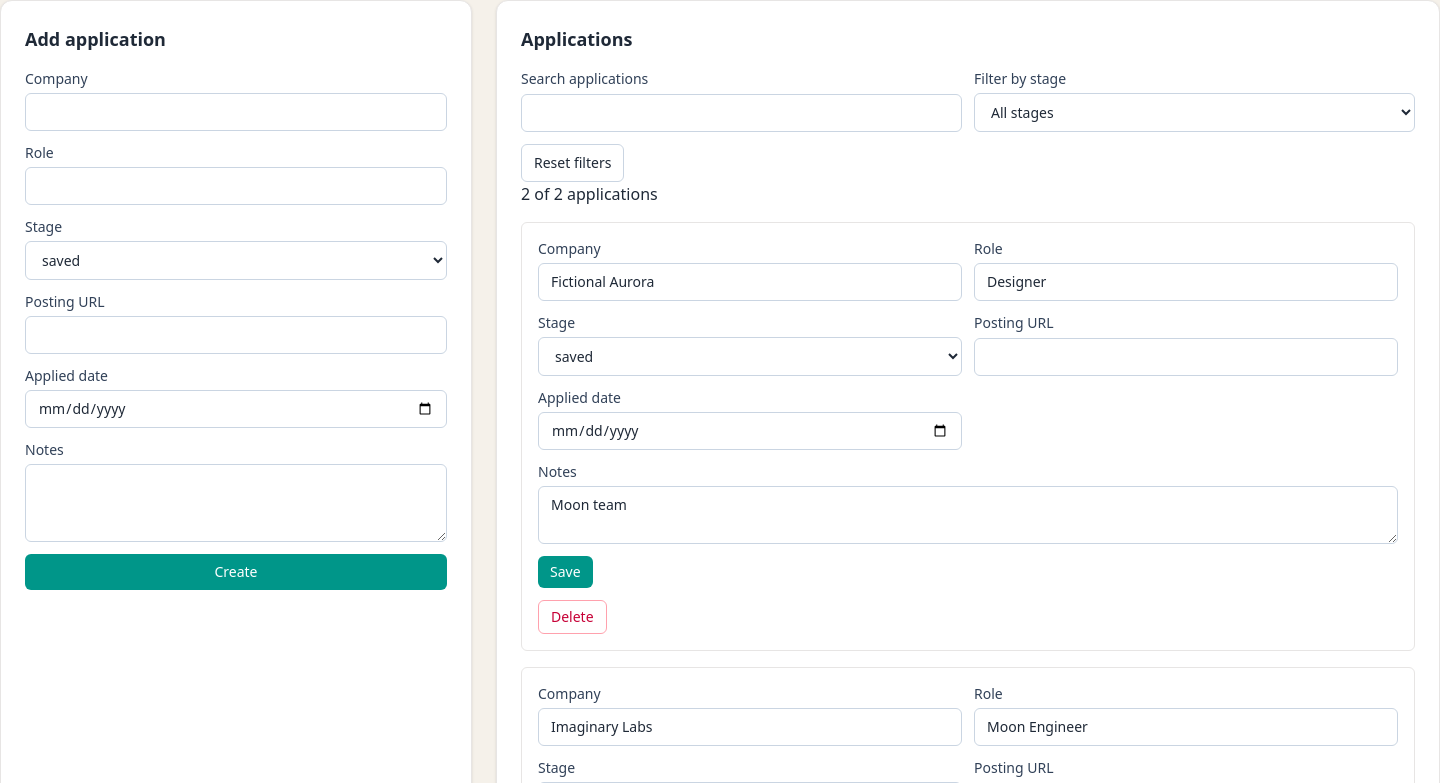
offline wiring: composes case-insensitive search and stage, counts and resets
Type "MOON" into the search field.
click(742, 113); type("MOON")  # box [521,94,962,132]
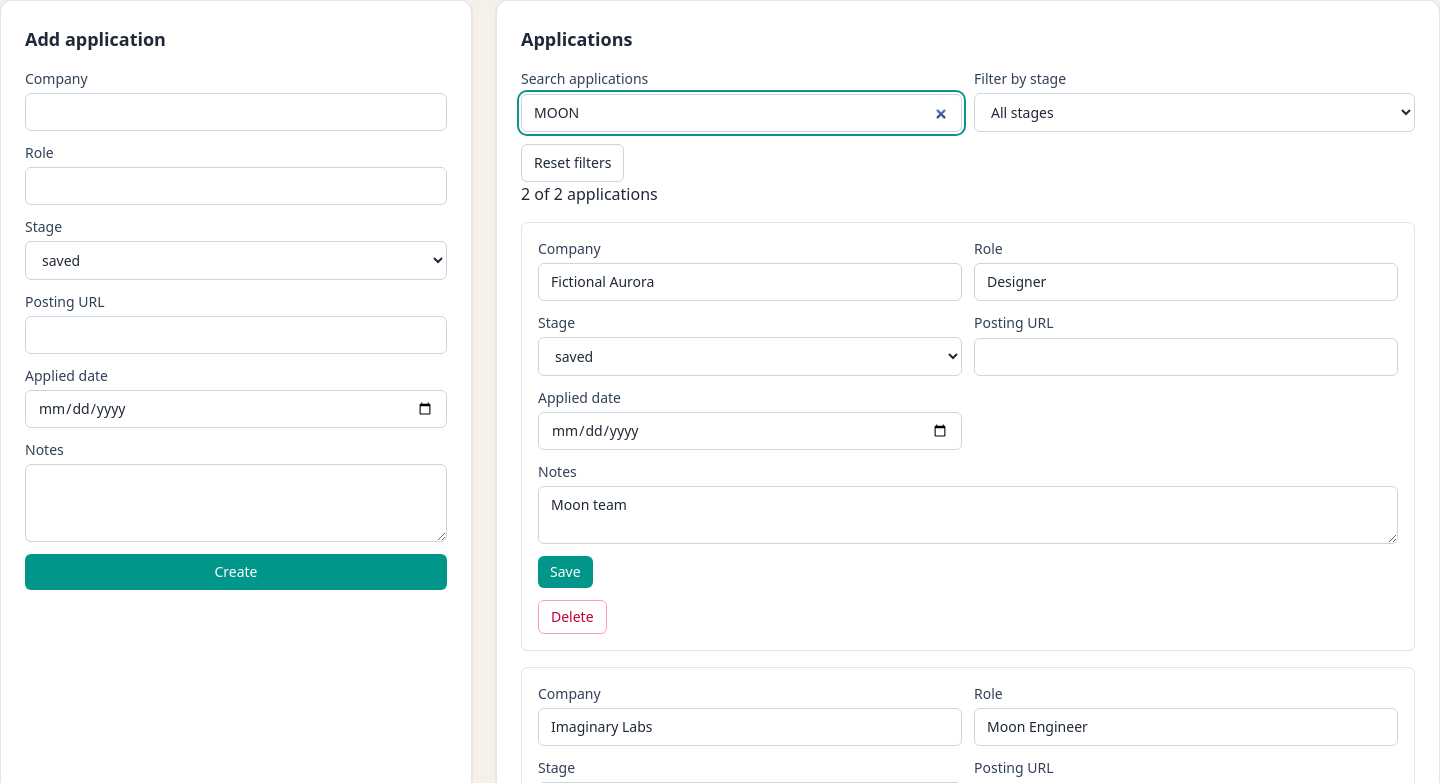
Check: the text "2 of 2 applications" is shown, box [521,183,658,205]
Select "saved" in the dropdown labelled "Filter by stage" at x=1194, y=112, box [974,93,1415,132]
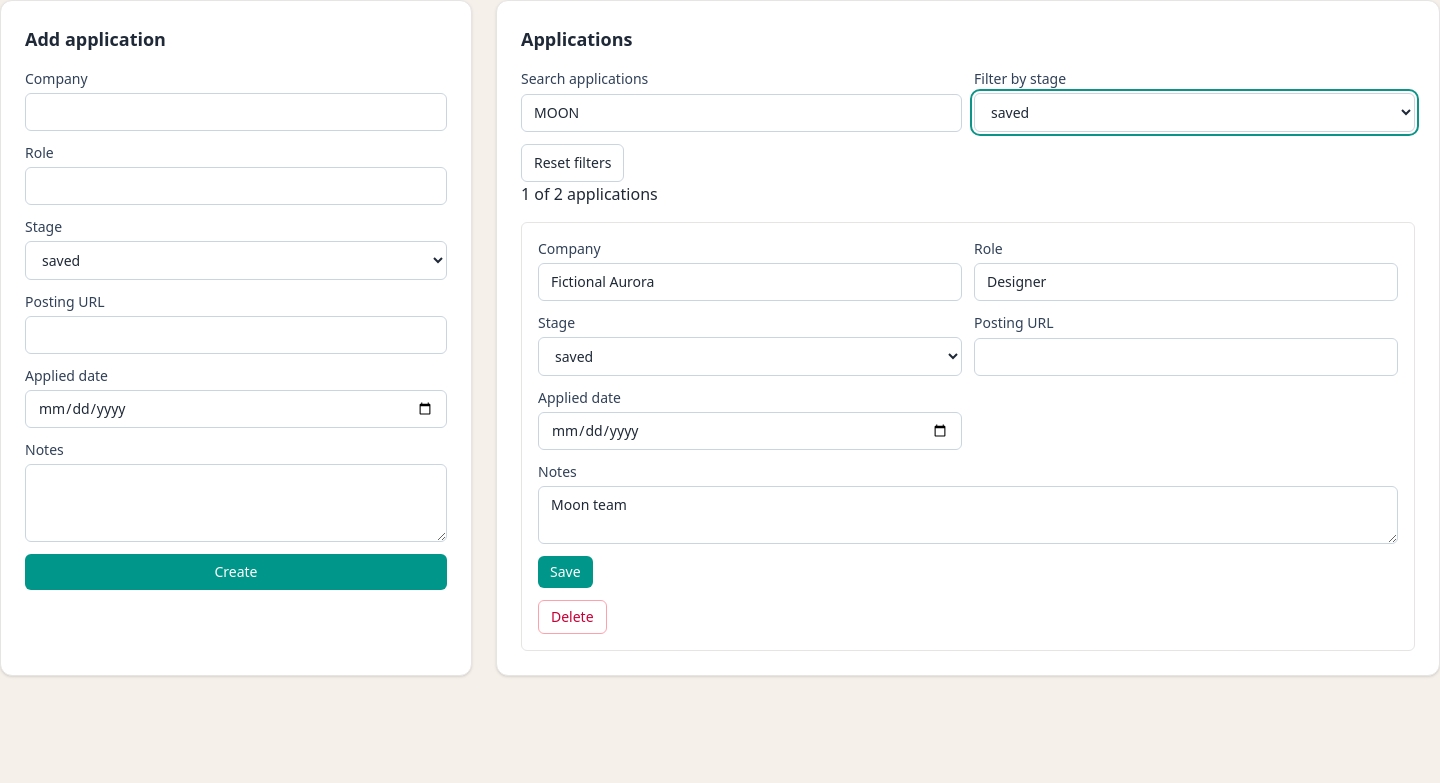
Check: the field showing "Imaginary Labs" is not shown
Check: the text "1 of 2 applications" is shown, box [521,183,658,205]
Replace the text in the search field with "AURORA" at x=742, y=113, box [521,94,962,132]
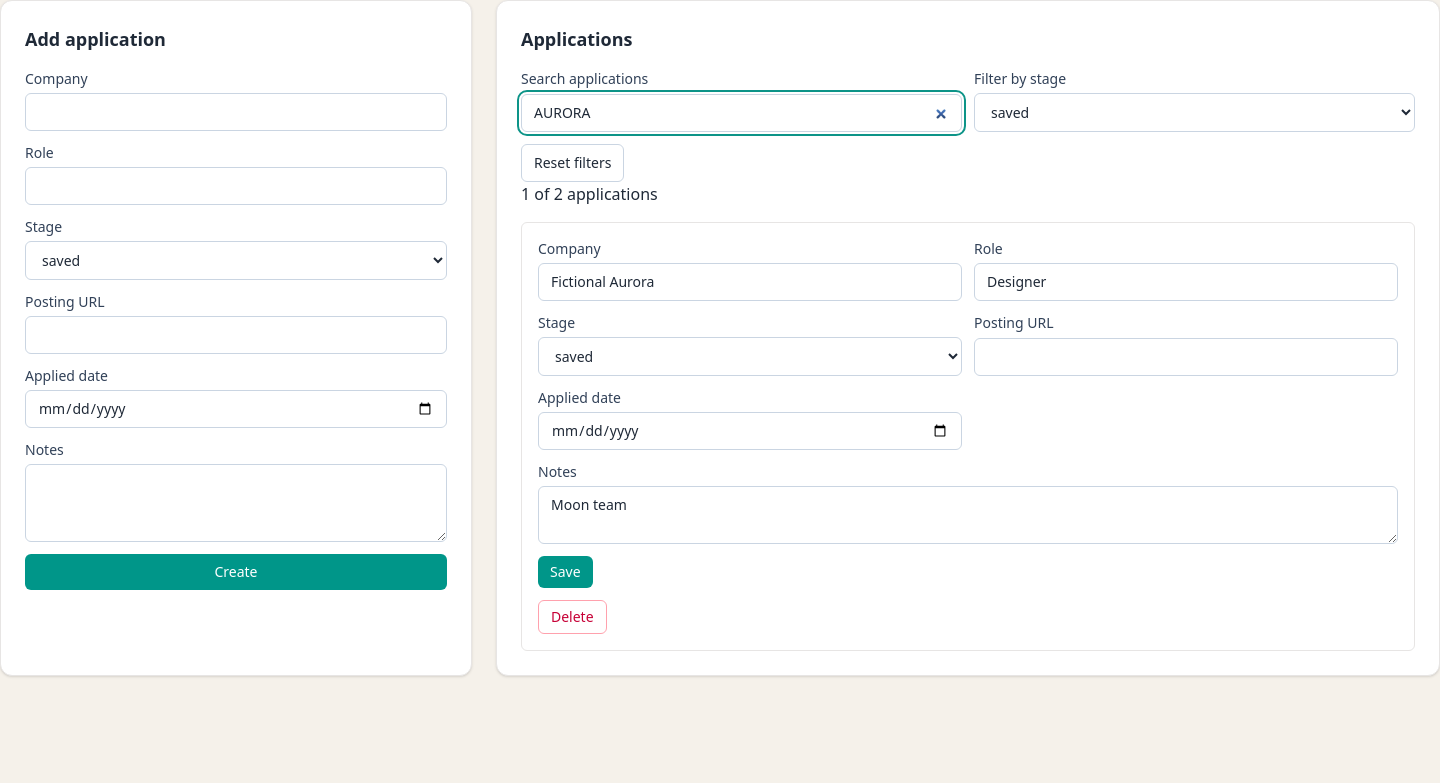
Check: the text "1 of 2 applications" is shown, box [521,183,658,205]
Click the button "Reset filters".
click(573, 163)  # box [521,144,624,182]
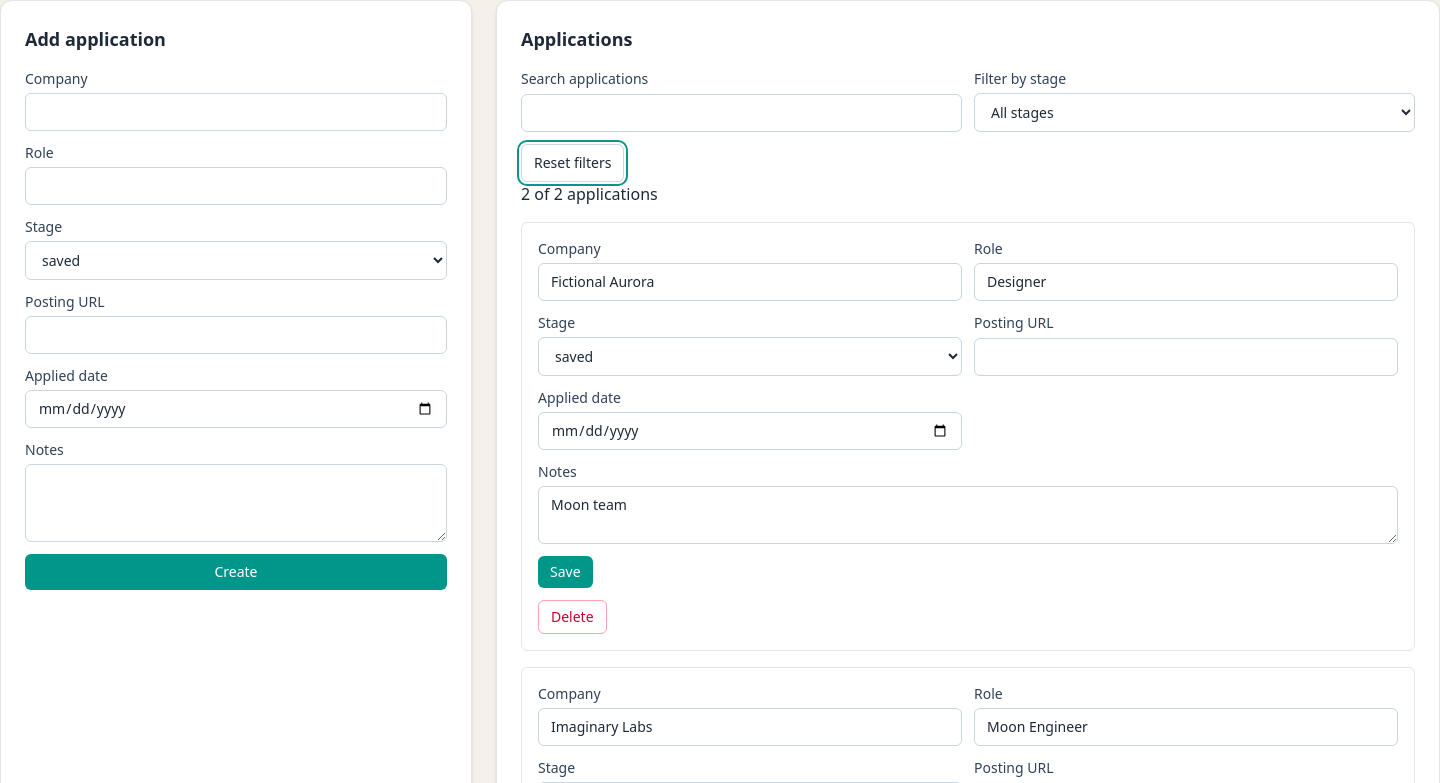
Check: the text "2 of 2 applications" is shown, box [521,183,658,205]
